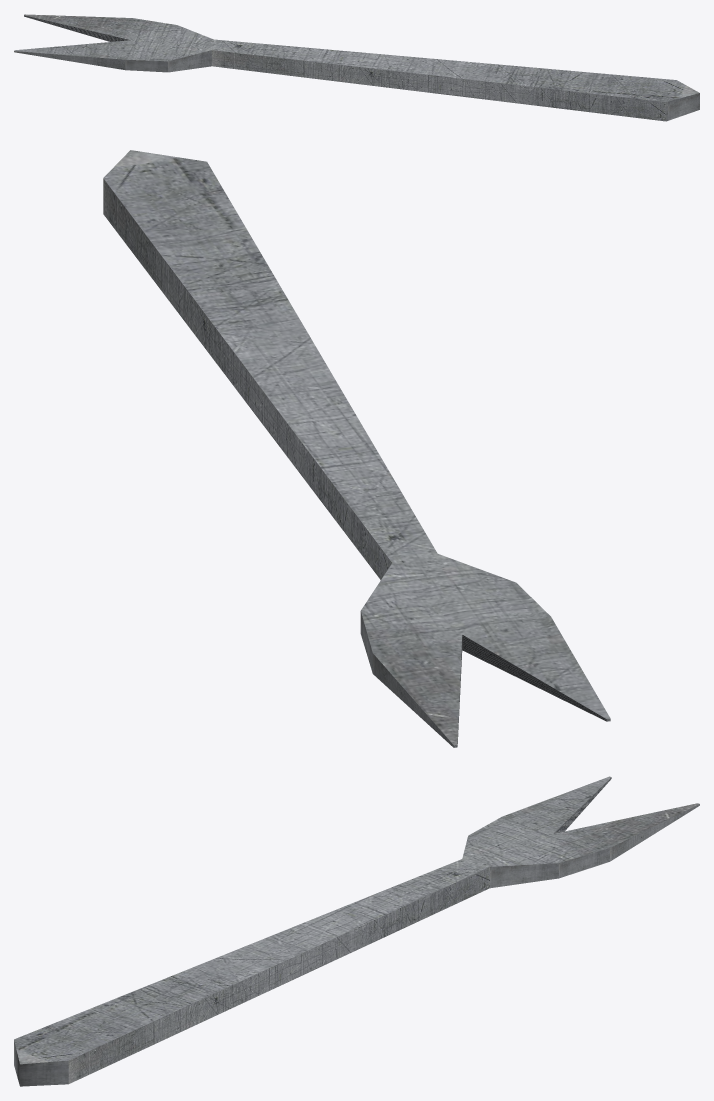
The model's file is garfo.FBX.
The picture shows the model from 3 angles, top to bottom: view 1: azimuth 30°, elevation 25°; view 2: azimuth 150°, elevation 25°; view 3: azimuth 270°, elevation 25°; orthographic projection. The views are drawn at different scales.
Parts seen in each view (by area): view 1: Box002; view 2: Box002; view 3: Box002.
Boxes of the visible parts, x1=… form: Box002: x1=14, y1=14, x2=699, y2=121; Box002: x1=103, y1=150, x2=610, y2=747; Box002: x1=14, y1=776, x2=699, y2=1086.
Bounding box in the file's own units: 0.79 × 0.0316 × 0.7661.
1 material, 1 textured.
